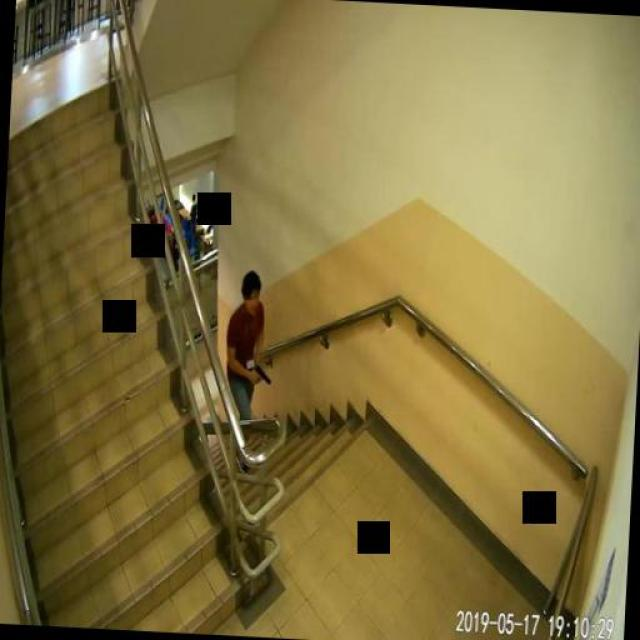gun: (251, 362, 270, 383)
